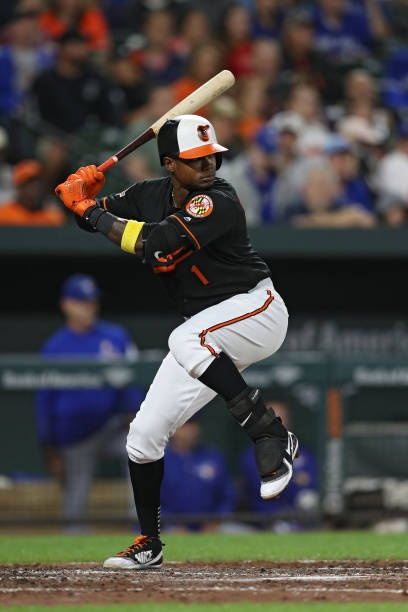bita: (95, 68, 241, 172)
